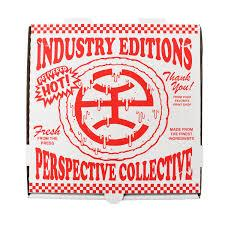Cardboard: (14, 17, 219, 207)
